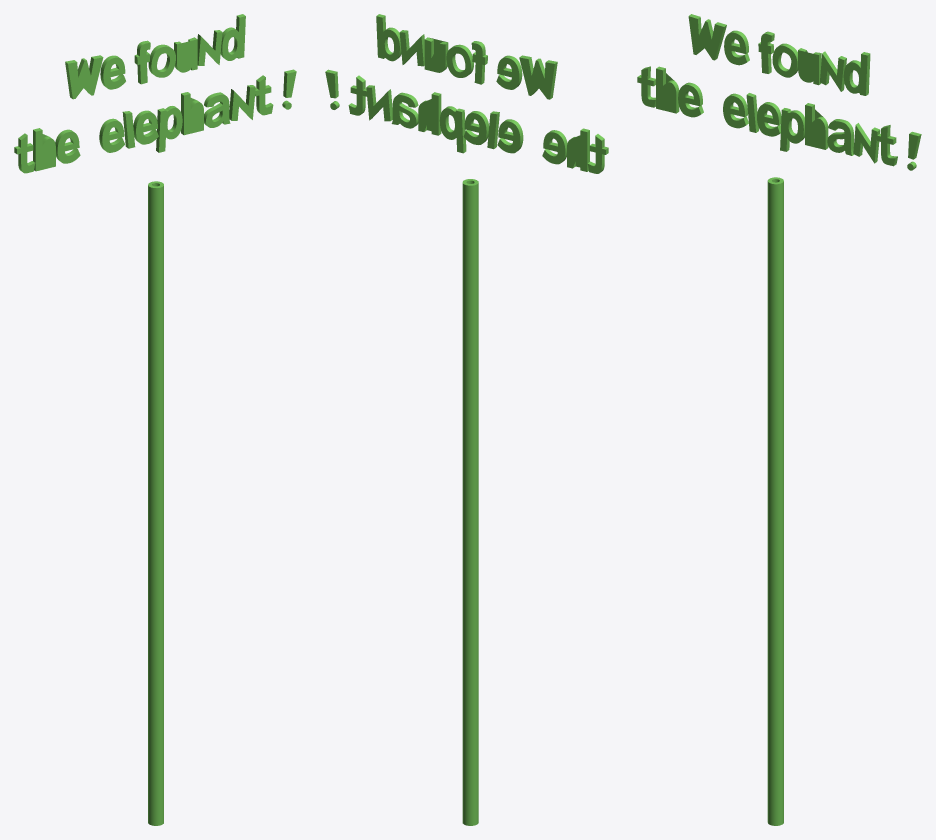
The model's file is foundit.fbx.
3 renders of one model, left to right at view 1: azimuth 30°, elevation 25°; view 2: azimuth 150°, elevation 25°; view 3: azimuth 330°, elevation 25°, orthographic.
Parts seen in each view (by area): view 1: Tube, W, p, h, h_2, d, a, u, e, e_3, e_4, e_2 (+4 smaller); view 2: Tube, W, h_2, p, d, h, a, u, e_3, e, e_4, e_2 (+4 smaller); view 3: Tube, W, h_2, h, d, p, a, u, e, e_3, e_2, e_4 (+3 smaller).
Part boxes in pixels (x1,y1,x2,y2): Tube: (148, 181, 163, 825); W: (65, 55, 103, 99); p: (156, 106, 182, 152); h: (33, 128, 55, 171); h_2: (181, 92, 203, 135); d: (220, 14, 245, 60); a: (204, 92, 230, 127); u: (174, 37, 197, 72); e: (100, 55, 125, 89); e_3: (99, 118, 124, 152); e_4: (133, 110, 158, 144); e_2: (55, 129, 80, 163); Tube: (462, 179, 478, 825); W: (519, 55, 557, 99); h_2: (418, 92, 441, 135); p: (439, 106, 466, 153); d: (376, 14, 401, 61); h: (567, 128, 589, 171); a: (391, 92, 418, 128); u: (424, 37, 448, 72); e_3: (497, 119, 523, 153); e: (496, 55, 522, 89); e_4: (463, 111, 489, 144); e_2: (542, 130, 567, 164); Tube: (767, 177, 783, 825); W: (688, 14, 726, 60); h_2: (805, 103, 828, 149); h: (656, 66, 679, 113); d: (843, 52, 870, 95); p: (780, 108, 804, 151); a: (827, 119, 853, 155); u: (798, 48, 821, 85); e: (724, 30, 749, 65); e_3: (723, 93, 748, 128); e_2: (678, 82, 703, 117); e_4: (757, 102, 781, 136).
Size of the model in its own units: 3981 by 10667 by 200.
